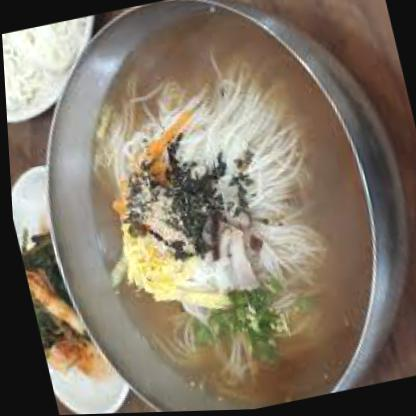banquet noodles: (37, 15, 412, 414)
young radish Kimchi: (10, 207, 115, 415)
